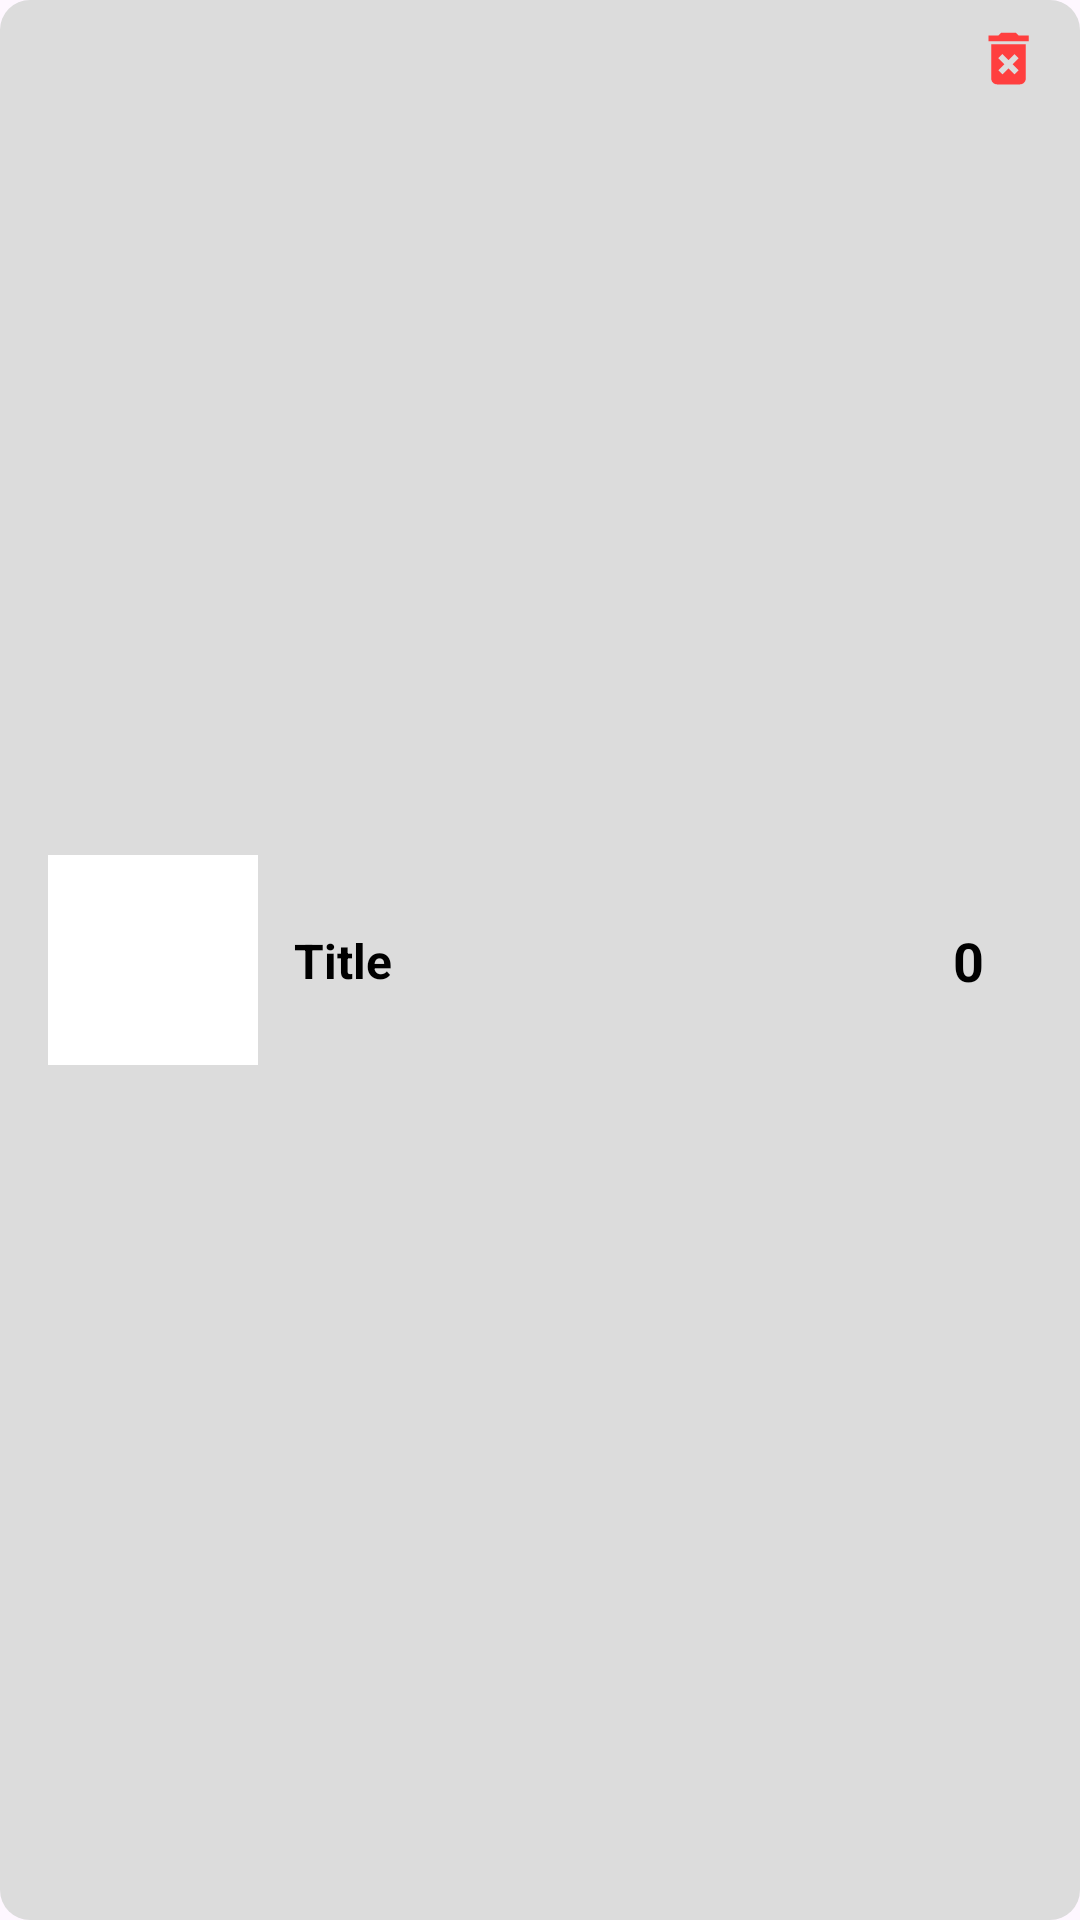

Where icons sit on this 1080x1920 app screen, as (x1, y1, x2, y2):
Delete: (988, 32, 1029, 85)
